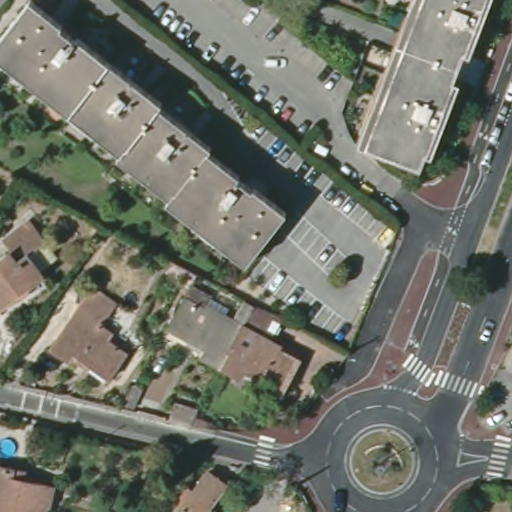pool: (1, 435, 23, 458)
